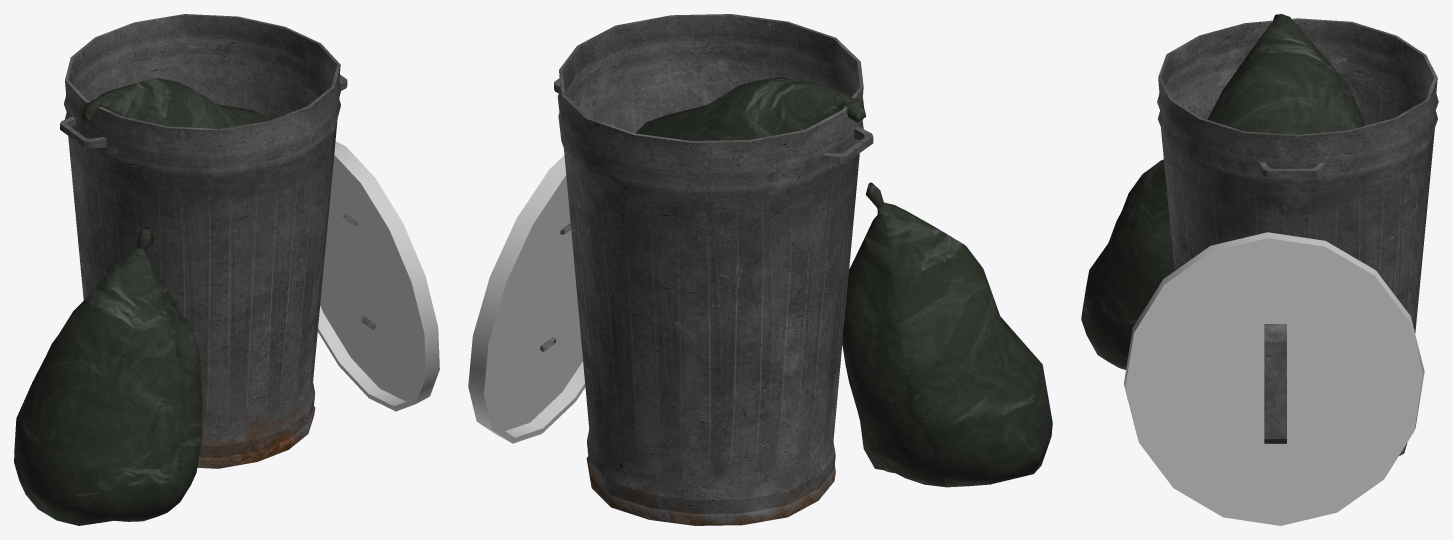
The model's file is TrashCans_Open.FBX.
The picture shows the model from 3 angles, left to right: view 1: azimuth 30°, elevation 25°; view 2: azimuth 150°, elevation 25°; view 3: azimuth 270°, elevation 25°; orthographic projection. The views are drawn at different scales.
Visible parts, largest first — view 1: TrashCan_Full; view 2: TrashCan_Full; view 3: TrashCan_Full.
Boxes of the visible parts, bbox=[...] form: TrashCan_Full: bbox=[14, 14, 439, 525]; TrashCan_Full: bbox=[468, 14, 1052, 525]; TrashCan_Full: bbox=[1081, 14, 1438, 525].
Bounding box in the file's own units: 35.07 × 29.94 × 25.88.
